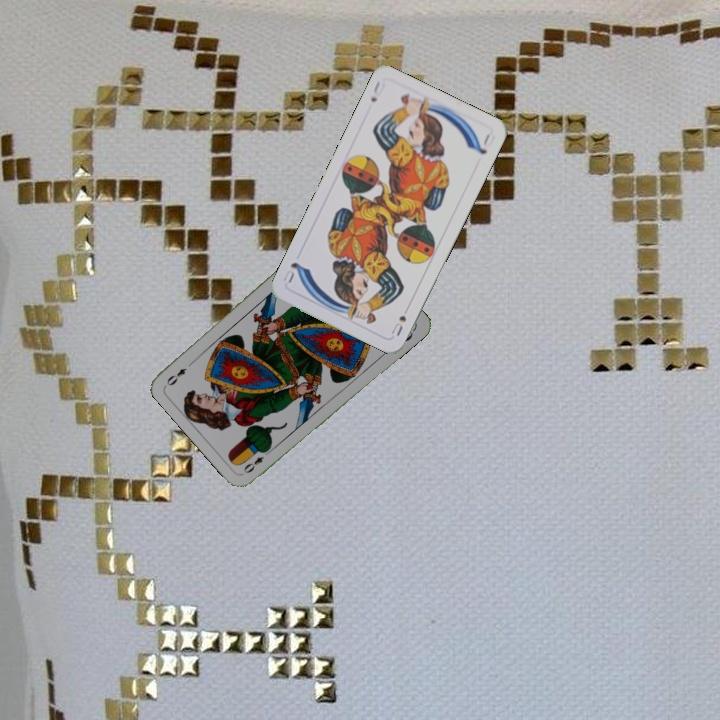EO: (239, 445, 273, 476)
SU: (387, 311, 409, 338), (367, 77, 388, 105)
